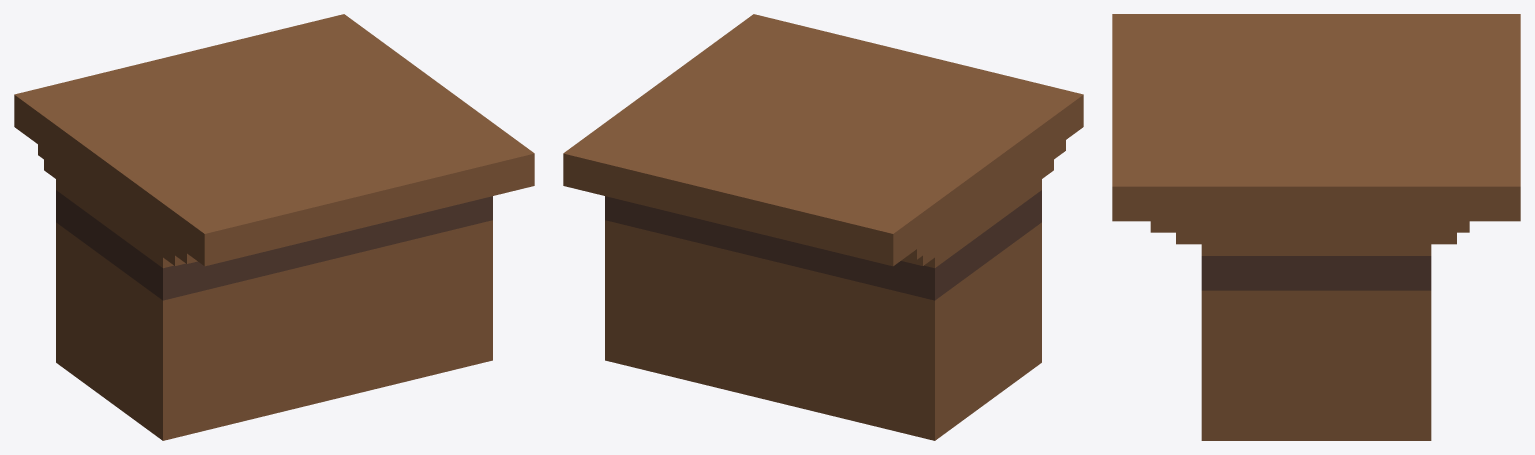
The model's file is Table02.obj.
The picture shows the model from 3 angles, left to right: view 1: azimuth 30°, elevation 25°; view 2: azimuth 150°, elevation 25°; view 3: azimuth 270°, elevation 25°; orthographic projection. The views are drawn at different scales.
Size of the model in its own units: 3.2 by 2.2 by 3.2.
1 material, 1 textured.
